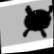not correct: (13, 1, 54, 45)
